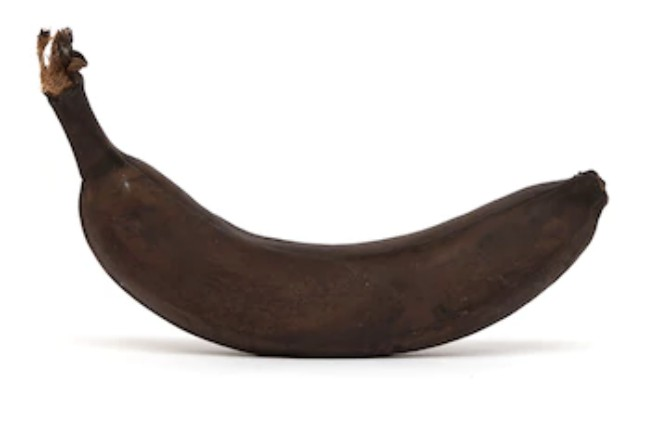rotten_banana: (36, 27, 611, 356)
